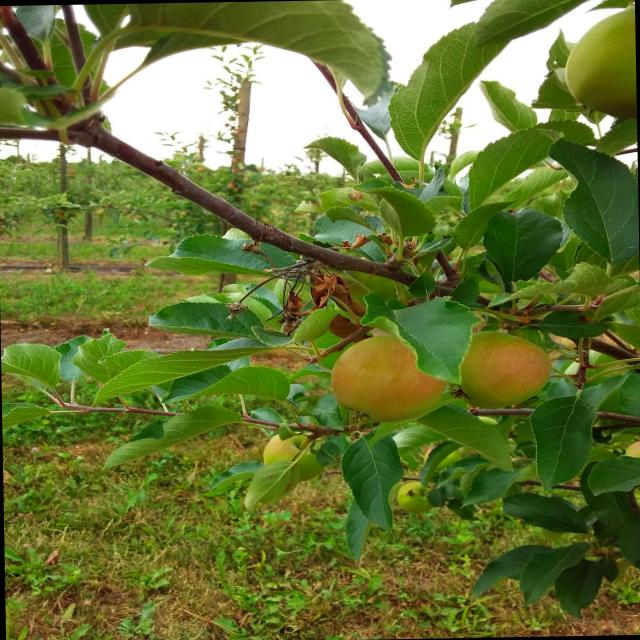-FireBlight-: (268, 246, 342, 324)
